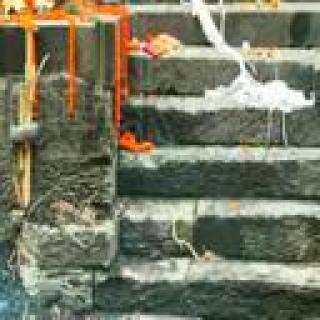fire: (0, 0, 44, 13)
